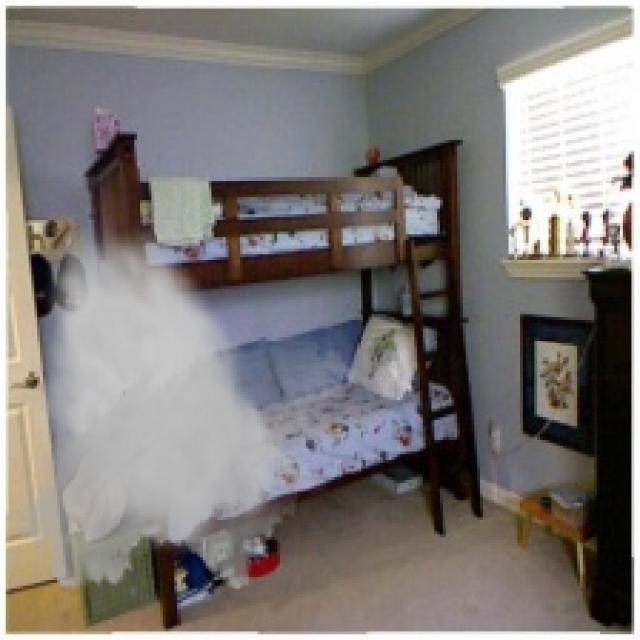Smoke: (6, 215, 360, 600)
